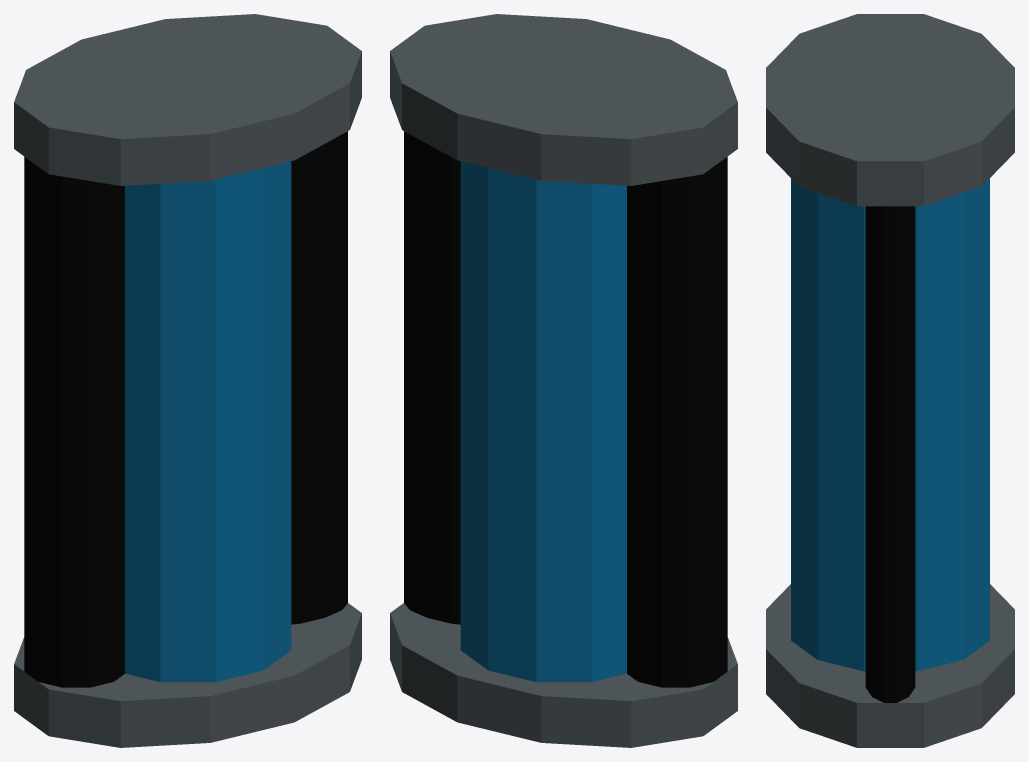
File: container.gltf
The picture shows the model from 3 angles, left to right: view 1: azimuth 30°, elevation 25°; view 2: azimuth 150°, elevation 25°; view 3: azimuth 270°, elevation 25°; orthographic projection. The views are drawn at different scales.
Visible parts, largest first — view 1: cylinder (×5); view 2: cylinder (×5); view 3: cylinder (×4).
Boxes of the visible parts, <box> form: cylinder (×5): <box>14,14,361,747</box>; cylinder (×5): <box>390,14,737,747</box>; cylinder (×4): <box>766,14,1014,747</box>.
Size of the model in its own units: 0.875 by 1.62 by 0.625.
4 materials, 4 textured.
